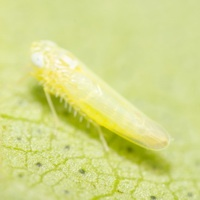insect: (31, 40, 169, 149)
